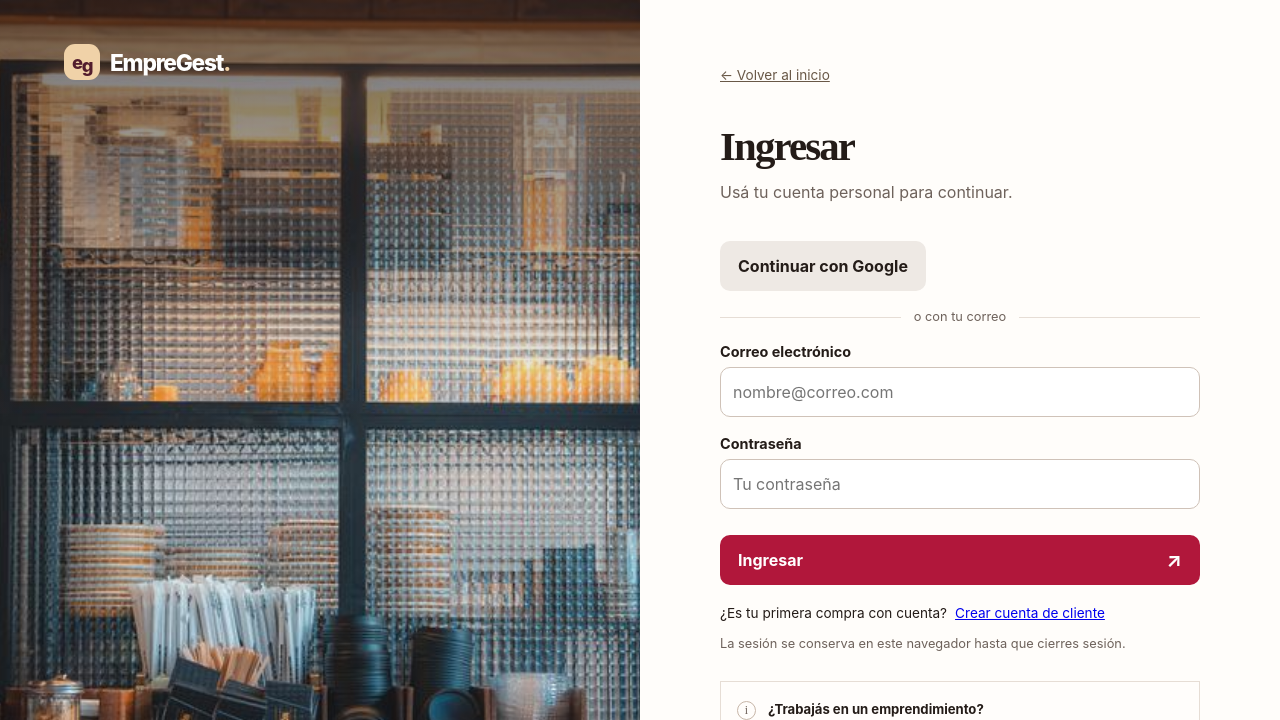
Test case: solicita Google con retorno al mismo origen y permite reintentar un error
The width and height of the screenshot is (1280, 720).
Click the button "Continuar con Google" at (823, 266), box [720,242,926,292]
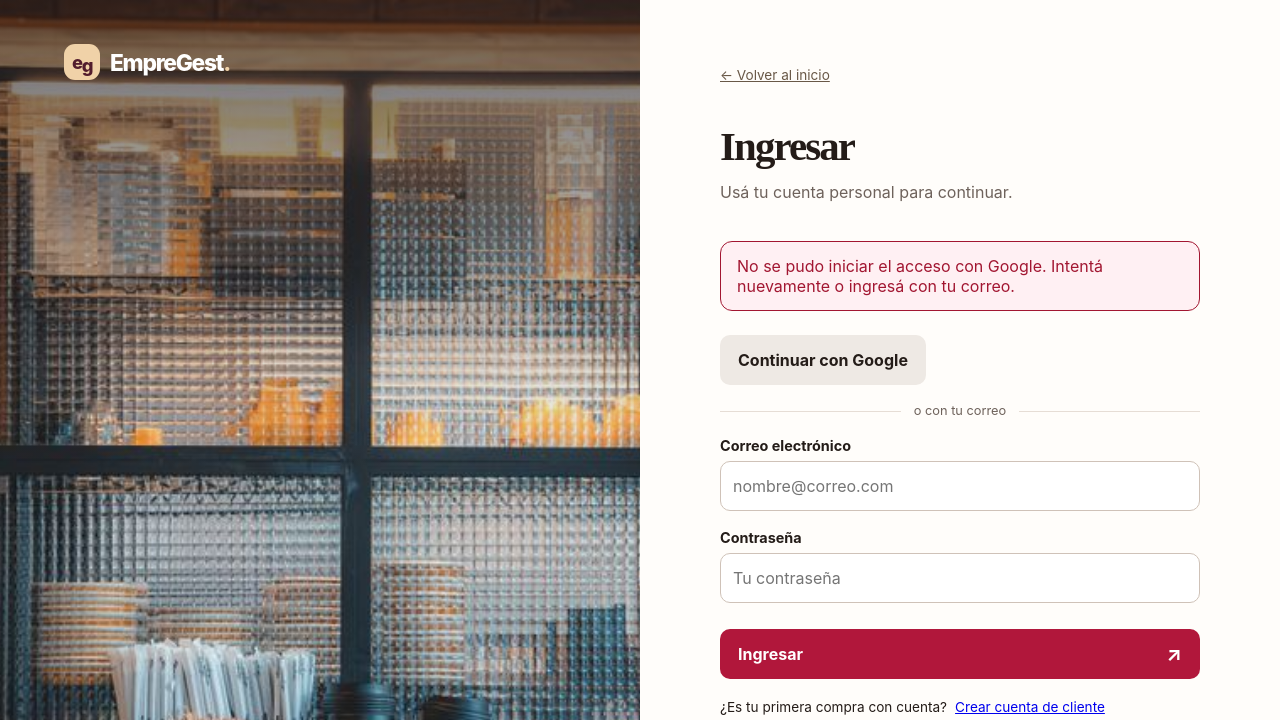
Check: the message does not show "secreto técnico", box [720,242,1200,312]
Check: the message shows "No se pudo iniciar", box [737,256,1103,296]
